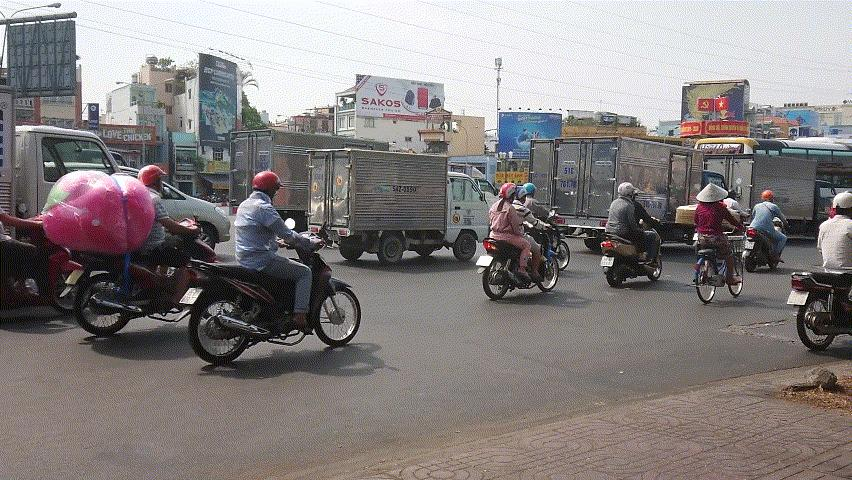bicyclist: (684, 182, 743, 303)
driver: (174, 170, 362, 367), (41, 165, 227, 335), (788, 192, 852, 352), (476, 182, 560, 300), (599, 181, 664, 287), (744, 188, 790, 273)
helmet: (252, 170, 285, 203), (138, 165, 169, 194), (832, 192, 852, 217), (617, 180, 637, 202), (498, 181, 517, 204), (515, 186, 529, 204), (524, 182, 537, 198), (761, 189, 774, 203)
no-helmet: (696, 183, 729, 203)
